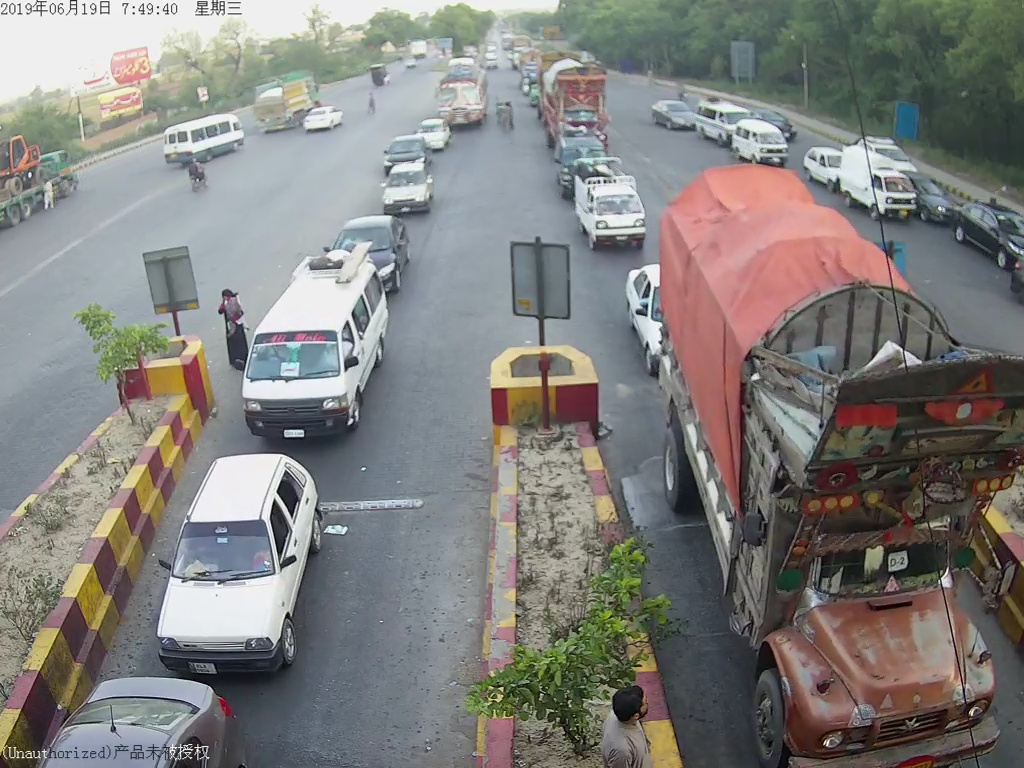Cat-1: (146, 451, 331, 680), (614, 248, 679, 382), (573, 155, 648, 252), (329, 206, 415, 290), (378, 158, 436, 212)
Cat-2: (239, 244, 393, 444)
Cat-4: (667, 148, 1024, 762)
